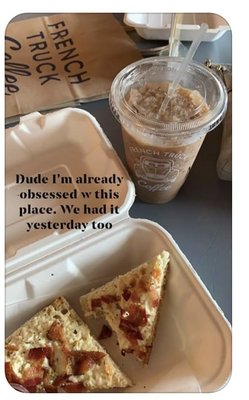pizza: (108, 55, 228, 205)
